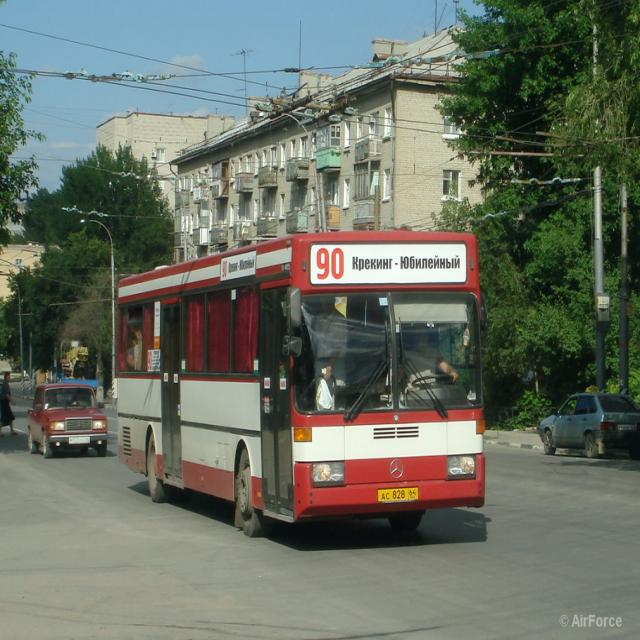number-of-bus: (314, 245, 346, 284), (222, 261, 229, 281)
